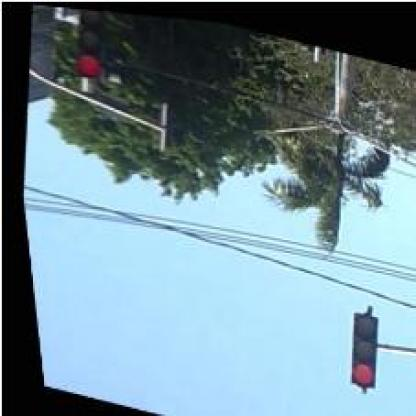red: (336, 305, 378, 384), (69, 6, 107, 78)
